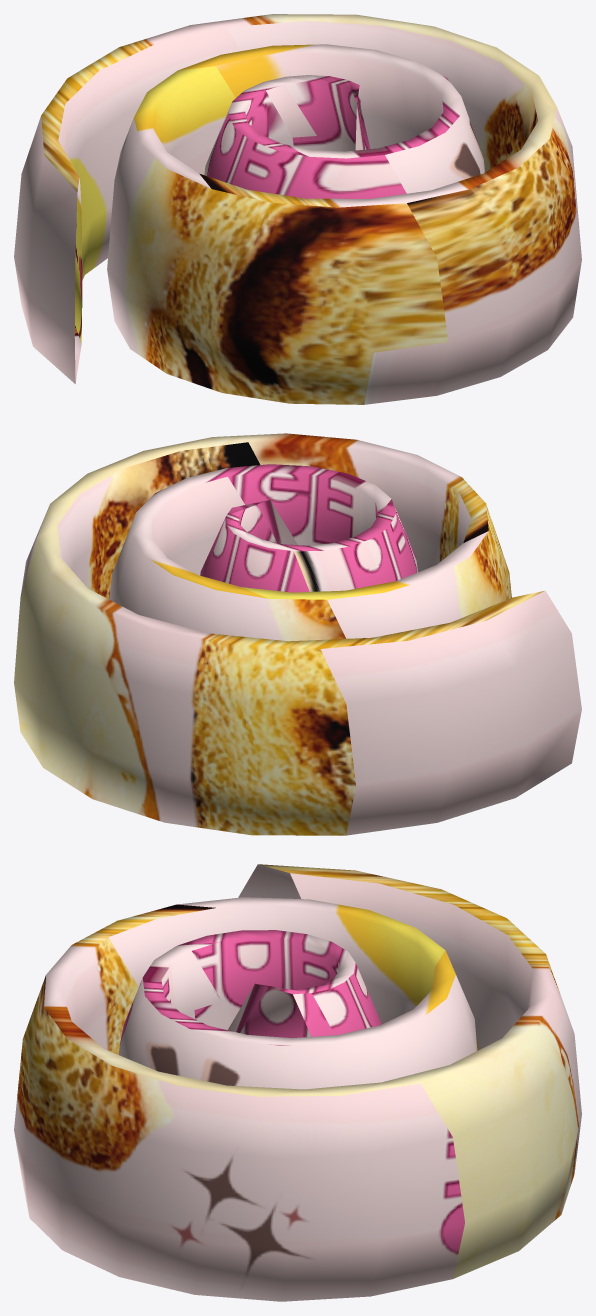
The model's file is prop_orange_cardamom_roll.glb.
The picture shows the model from 3 angles, top to bottom: view 1: azimuth 30°, elevation 25°; view 2: azimuth 150°, elevation 25°; view 3: azimuth 270°, elevation 25°; orthographic projection. The views are drawn at different scales.
Parts seen in each view (by area): view 1: prop_orange_cardamom_roll; view 2: prop_orange_cardamom_roll; view 3: prop_orange_cardamom_roll.
Part boxes in pixels (x1=…): prop_orange_cardamom_roll: x1=14, y1=14, x2=581, y2=404; prop_orange_cardamom_roll: x1=14, y1=433, x2=581, y2=835; prop_orange_cardamom_roll: x1=14, y1=864, x2=581, y2=1301.
Size of the model in its own units: 0.0571 by 0.0228 by 0.0527.
Materials: 1 (1 with a texture image).
